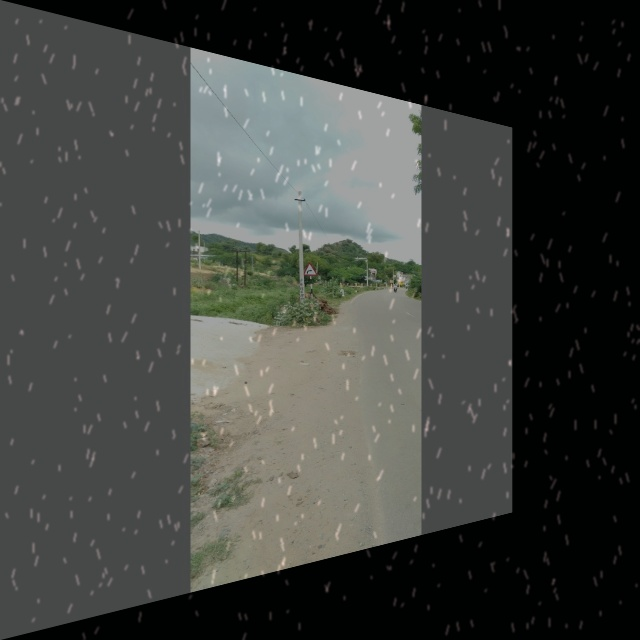Right_Hand_Curve: (302, 261, 317, 277)
